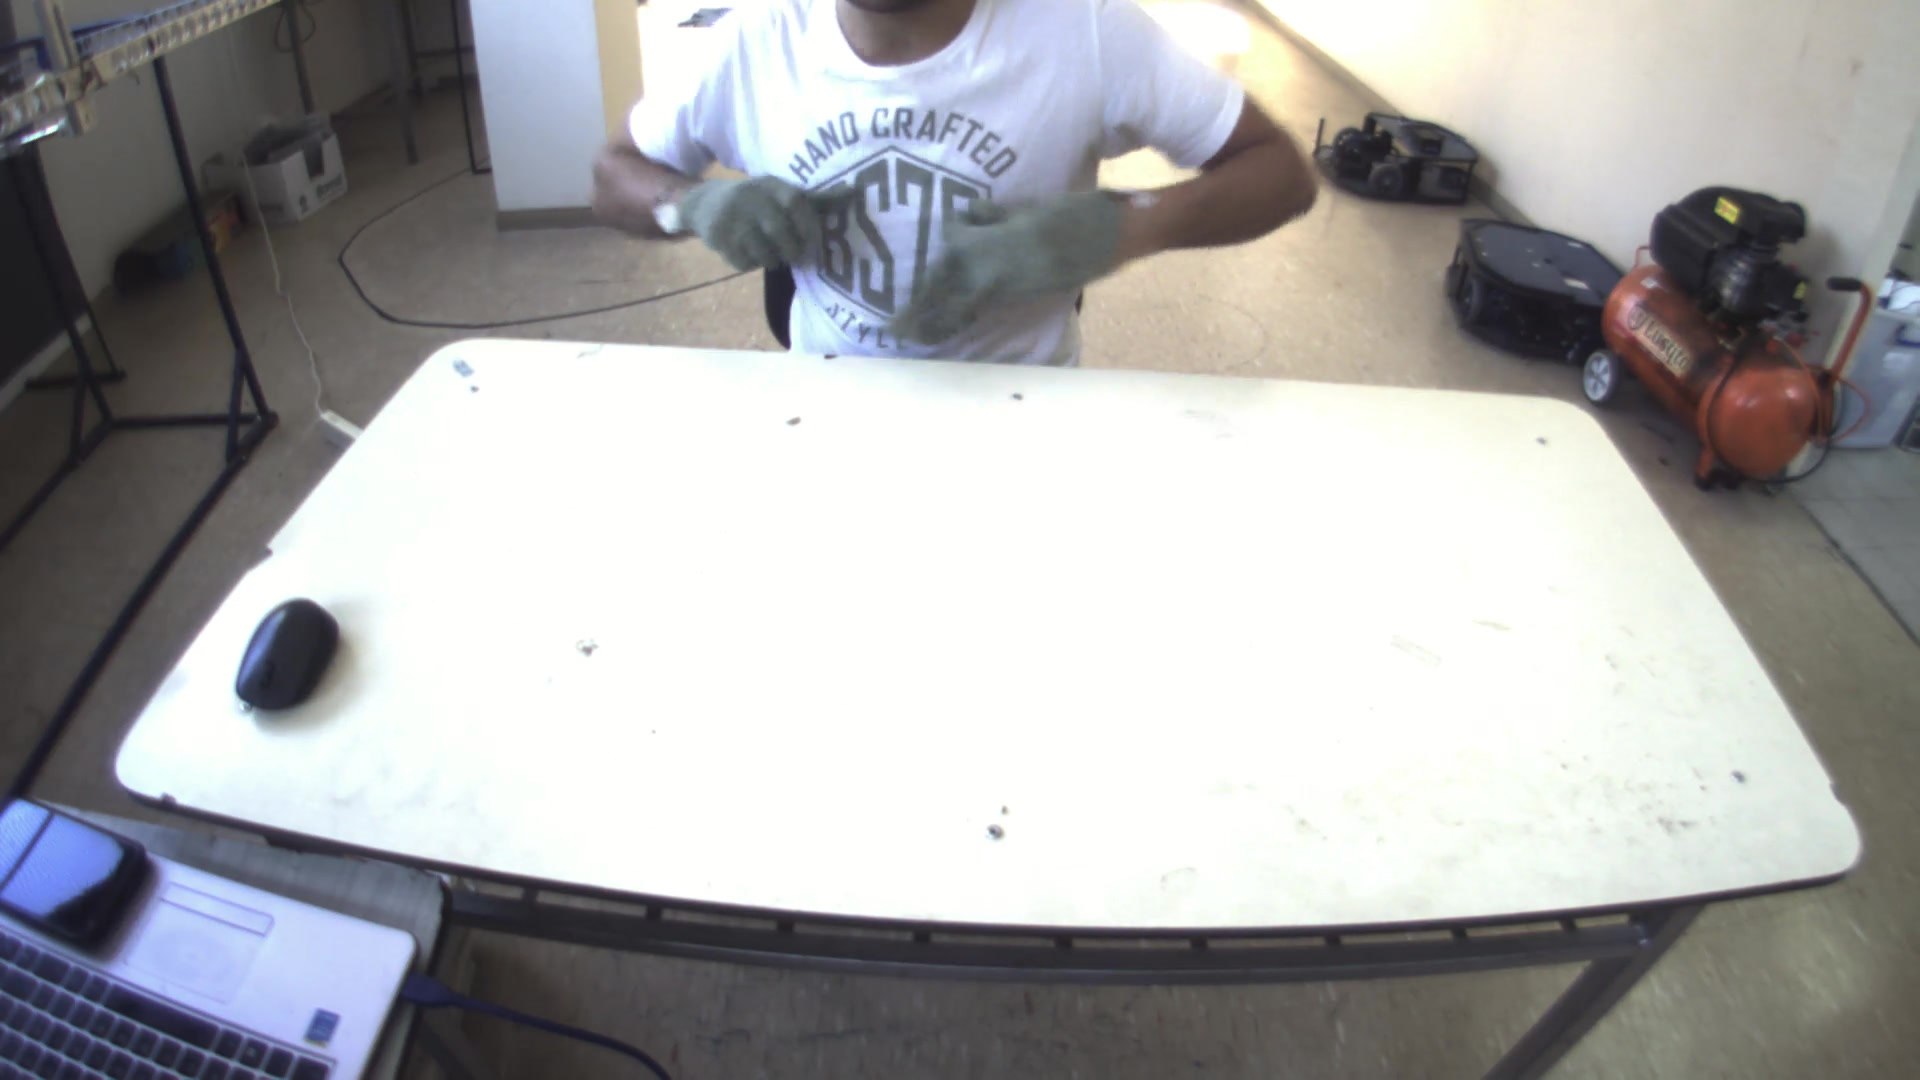hand: (651, 156, 884, 274)
